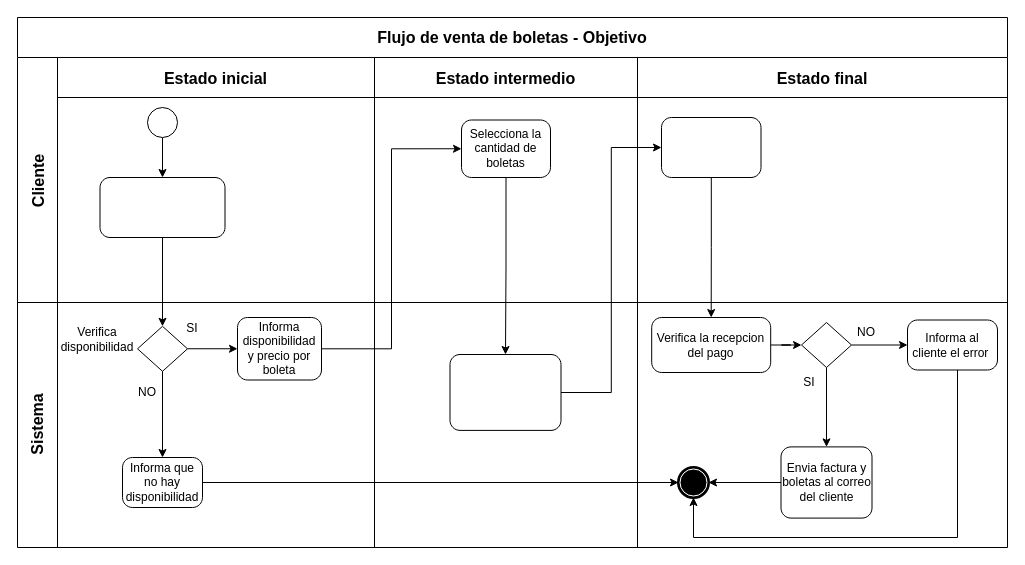
Image size: 1025x565. Some labels were removed from this diagram. The box of each missing label's shape, as (x1, y1, x2, y2) in pixels:
Ingresa al sistema y busca el evento deseado: (99, 176, 225, 238)
Selecciona medio de pago y realiza el pago: (660, 116, 761, 178)
Separa las boletas, informa el valor a pagar dando opciones de pago: (449, 354, 561, 430)
